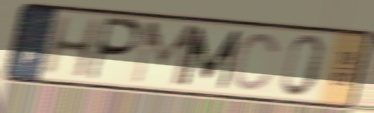0: (279, 33, 328, 99)
C: (230, 31, 282, 94)
H: (40, 14, 103, 80)
M: (128, 20, 200, 89), (178, 25, 244, 92)
P: (85, 15, 145, 84)
